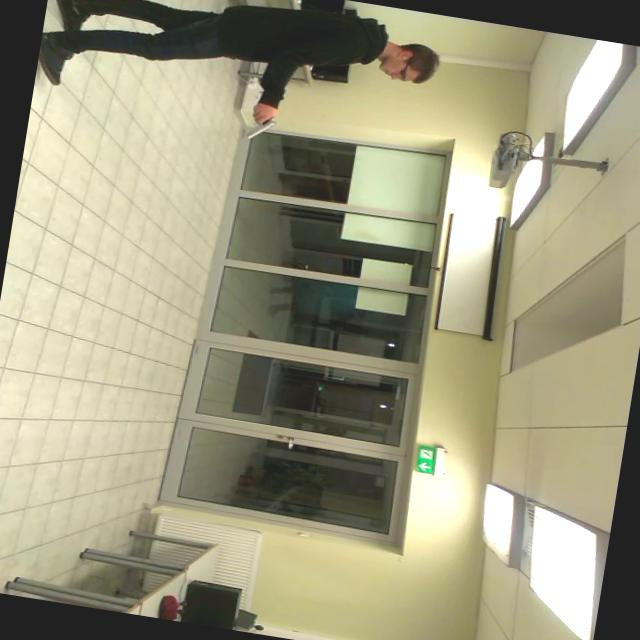handgun: (236, 106, 281, 150)
